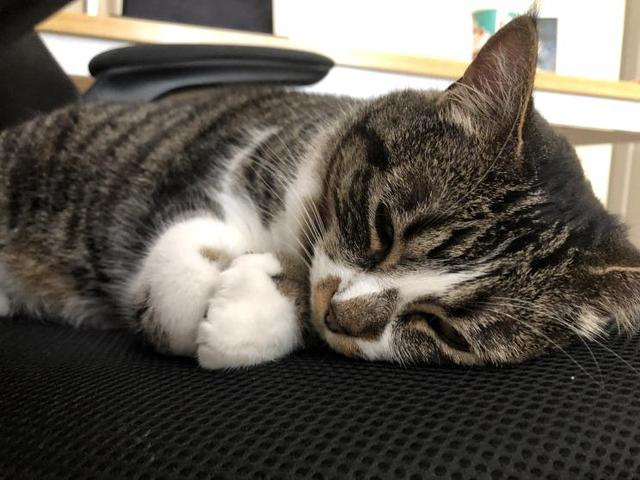playdoh: (1, 1, 640, 373)
